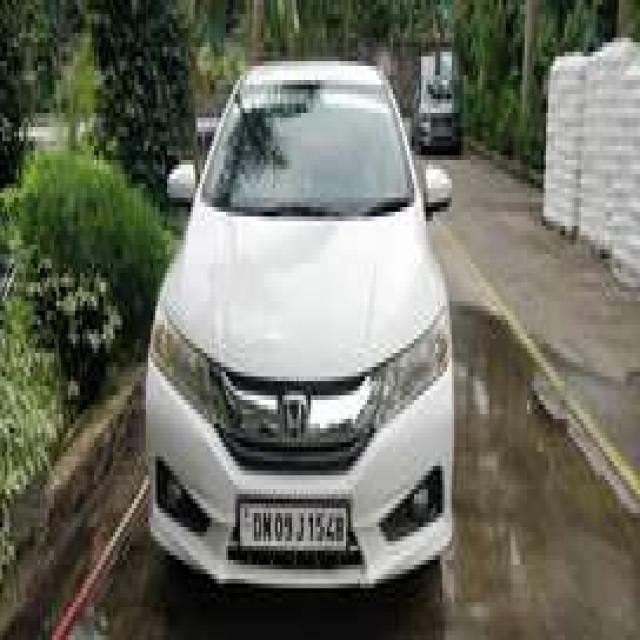license-plate: (238, 499, 346, 541)
